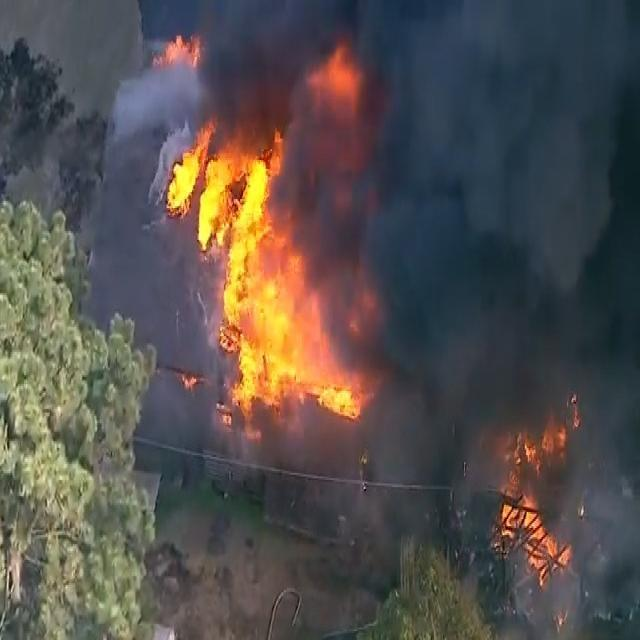Fire: (175, 120, 362, 427), (496, 404, 588, 606)
Smoke: (362, 3, 638, 406)
